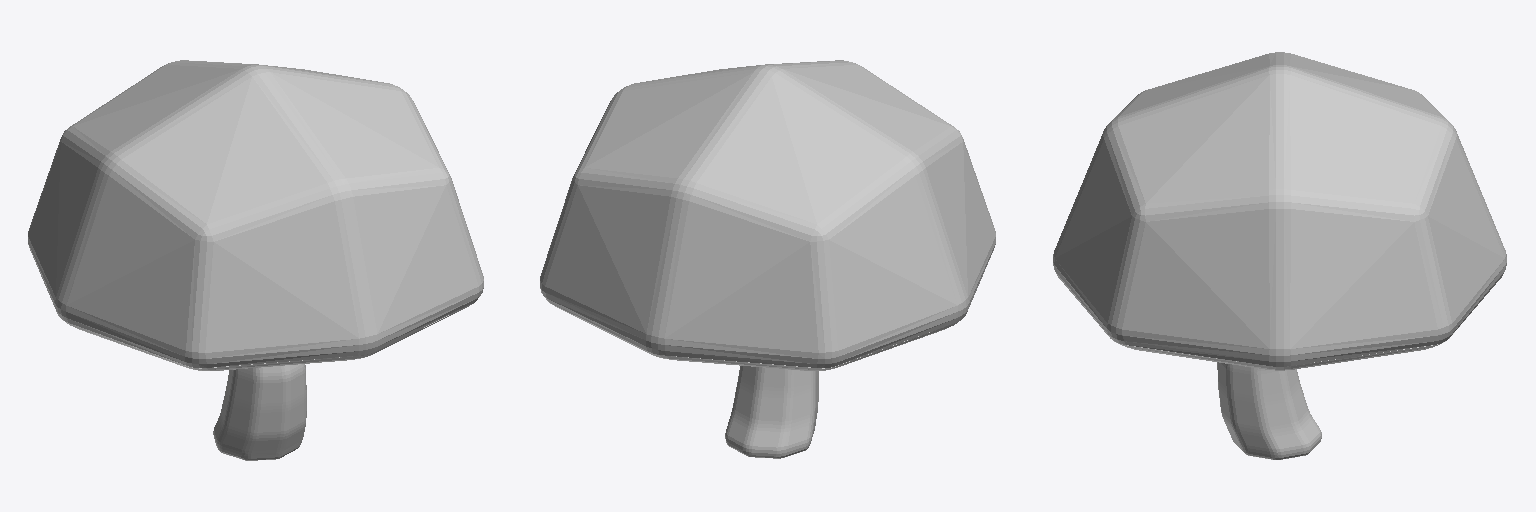
The model's file is mushroom.obj.
3 views of the same model, side by side, from view 1: azimuth 30°, elevation 25°; view 2: azimuth 150°, elevation 25°; view 3: azimuth 270°, elevation 25° (orthographic).
Visible parts, largest first — view 1: chapéu_Cube, caule_Cylinder; view 2: chapéu_Cube, caule_Cylinder; view 3: chapéu_Cube, caule_Cylinder.
Boxes of the visible parts, x1=… form: chapéu_Cube: x1=28, y1=60, x2=483, y2=370; caule_Cylinder: x1=213, y1=364, x2=306, y2=460; chapéu_Cube: x1=540, y1=60, x2=995, y2=370; caule_Cylinder: x1=725, y1=366, x2=818, y2=458; chapéu_Cube: x1=1053, y1=52, x2=1506, y2=370; caule_Cylinder: x1=1217, y1=362, x2=1321, y2=459.
Bounding box in the file's own units: 1.59 × 1.45 × 1.59.